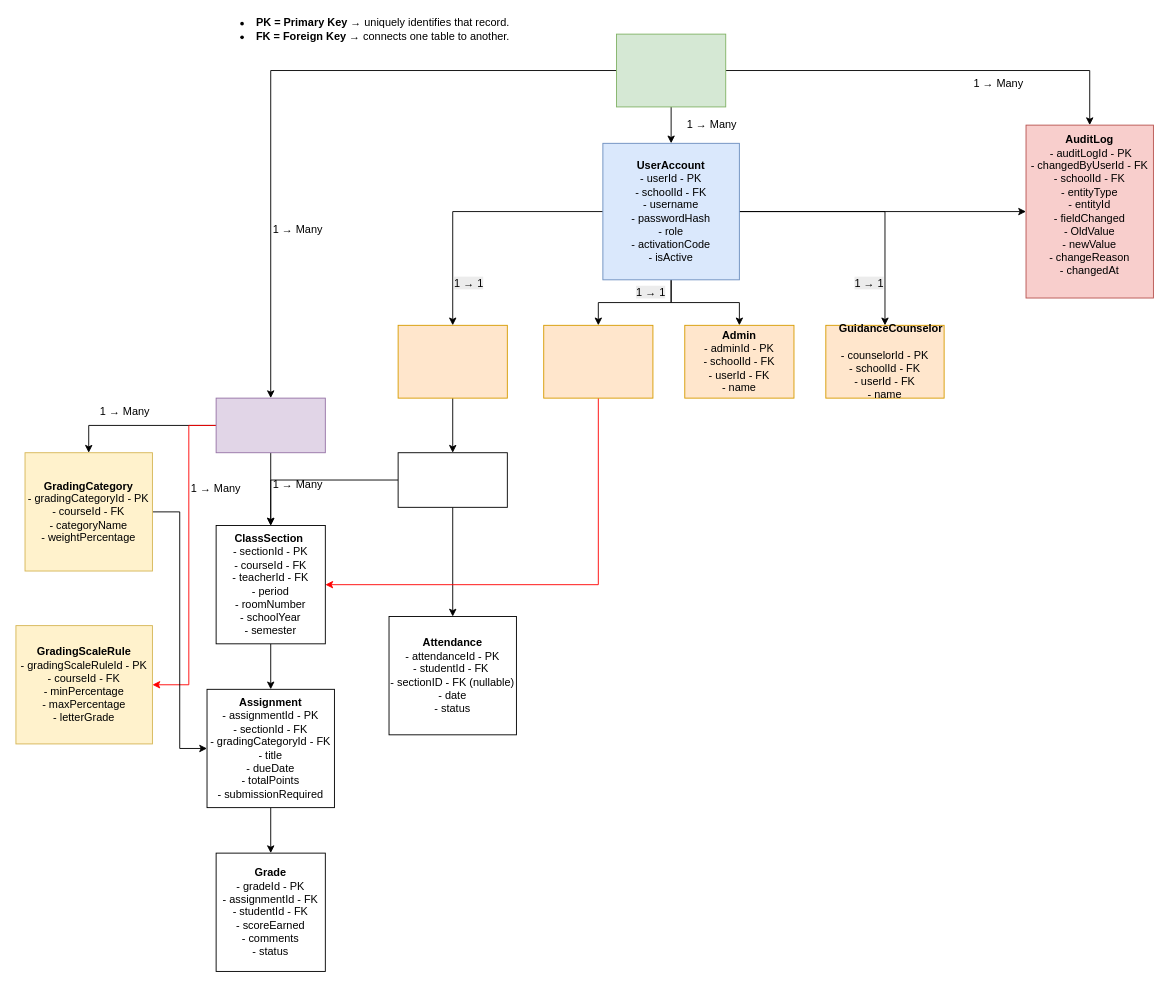
The diagram is 1169 pixels wide and 987 high, and some of its shapes have lost their labels. Here are the shapes that lost their labels. From the top down, the centre of each, then its label:
the point at 671,70: School - schoolId - PK - schoolName - schoolCode
the point at 452,361: Student - studentId - PK - schoolId - FK - userId - FK - name
the point at 598,361: Teacher - teacherId - PK - schoolId - FK - userId - FK - name
the point at 270,425: Course - courseId - PK - schoolId - FK - courseName
the point at 452,479: Enrollment - enrollmentId - PK - studentId- FK - sectionId - FK
